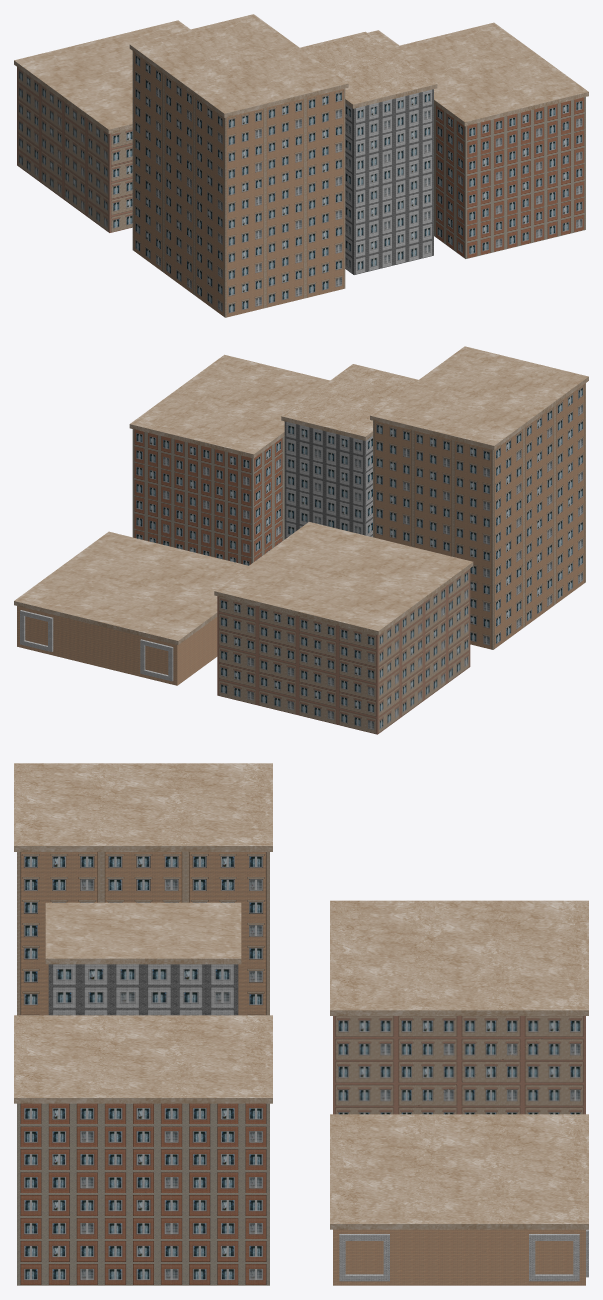
Rendered from SquareBlock-Market.obj.
3 renders of one model, top to bottom at view 1: azimuth 30°, elevation 25°; view 2: azimuth 150°, elevation 25°; view 3: azimuth 270°, elevation 25°, orthographic. The views are drawn at different scales.
Visible parts, largest first — view 1: Box014, Box016, Box015, Box017, Box013, Box010, Box008, Box009; view 2: Box014, Box013, Box016, Box008, Box011, Box017, Box010, Box015, Box012, Box009, Plane001, Plane002; view 3: Box016, Box008, Box011, Box013, Box010, Box017, Box014, Box009, Box012, Box015, Plane003, Plane004.
Part boxes in pixels (bbox=[...]): Box014: bbox=[132, 51, 345, 317]; Box016: bbox=[434, 97, 585, 258]; Box015: bbox=[345, 89, 433, 274]; Box017: bbox=[129, 14, 348, 117]; Box013: bbox=[17, 67, 132, 232]; Box010: bbox=[389, 22, 588, 126]; Box008: bbox=[14, 20, 190, 133]; Box009: bbox=[300, 31, 437, 108]; Box014: bbox=[373, 383, 585, 649]; Box013: bbox=[217, 568, 470, 734]; Box016: bbox=[132, 429, 284, 565]; Box008: bbox=[214, 522, 473, 635]; Box011: bbox=[14, 531, 248, 644]; Box017: bbox=[370, 346, 588, 449]; Box010: bbox=[129, 354, 329, 458]; Box015: bbox=[284, 421, 372, 539]; Box012: bbox=[17, 606, 217, 685]; Box009: bbox=[281, 364, 418, 440]; Plane001: bbox=[140, 639, 173, 681]; Plane002: bbox=[20, 610, 53, 651]; Box016: bbox=[17, 1103, 269, 1285]; Box008: bbox=[330, 900, 588, 1015]; Box011: bbox=[330, 1114, 588, 1229]; Box013: bbox=[333, 1016, 585, 1114]; Box010: bbox=[14, 1015, 272, 1103]; Box017: bbox=[14, 763, 272, 851]; Box014: bbox=[17, 852, 269, 1015]; Box009: bbox=[45, 902, 241, 964]; Box012: bbox=[333, 1229, 585, 1285]; Box015: bbox=[48, 964, 238, 1015]; Plane003: bbox=[529, 1234, 579, 1281]; Plane004: bbox=[339, 1234, 389, 1281].
Size of the model in its own units: 91 by 49 by 91.
